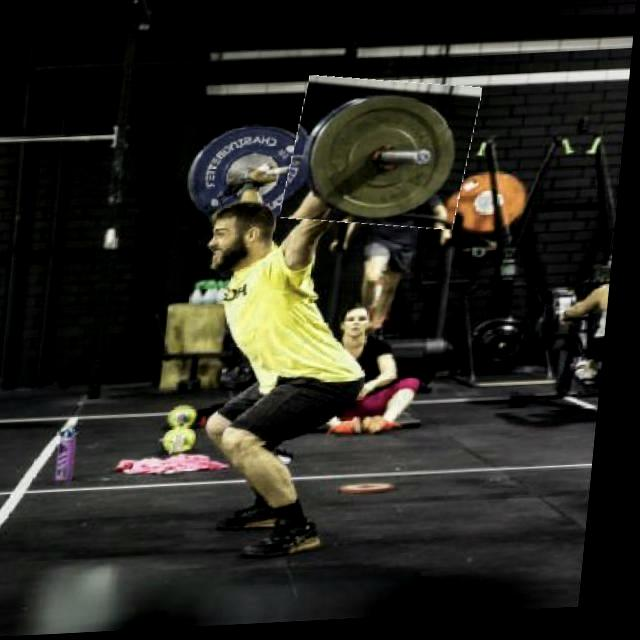barbell: (287, 78, 482, 237)
